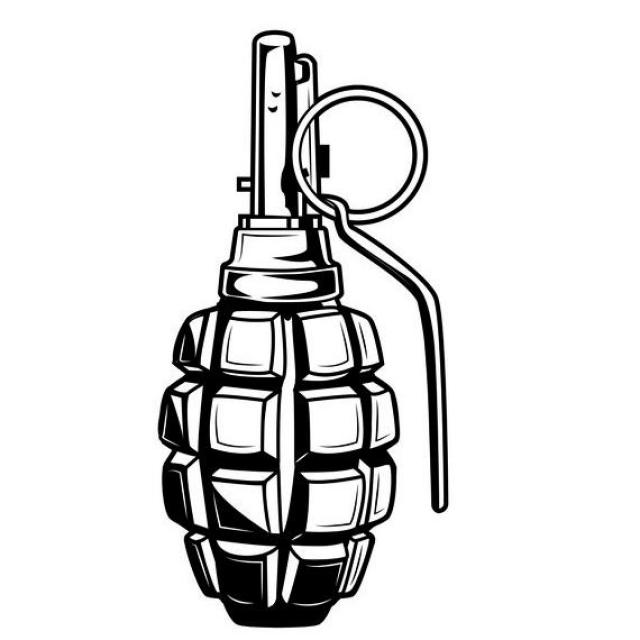grenade: (159, 30, 449, 630)
